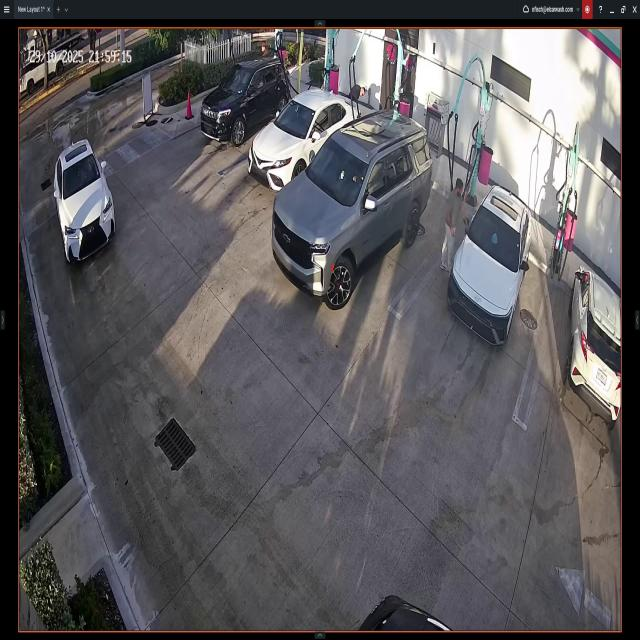Car: (272, 112, 432, 306), (448, 185, 531, 347), (250, 90, 360, 189), (570, 269, 623, 429), (52, 138, 118, 266), (202, 58, 288, 143)
